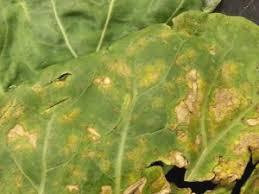Bok-Choy-Diseased: (24, 35, 245, 163)
